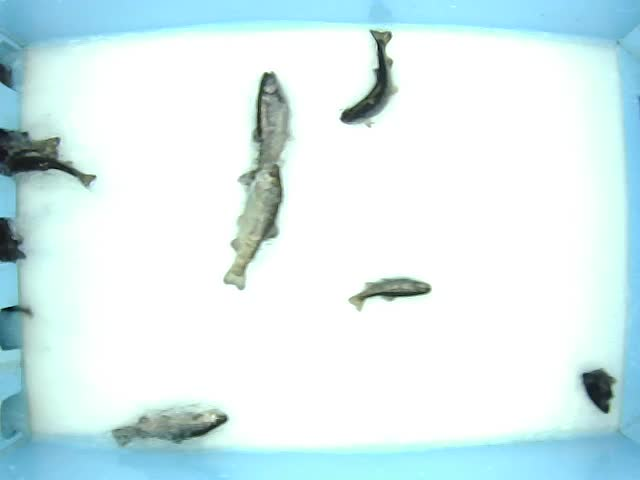fish: (221, 160, 281, 290), (236, 71, 289, 190), (339, 26, 398, 129), (108, 405, 229, 450), (346, 274, 433, 314), (580, 359, 616, 414)
